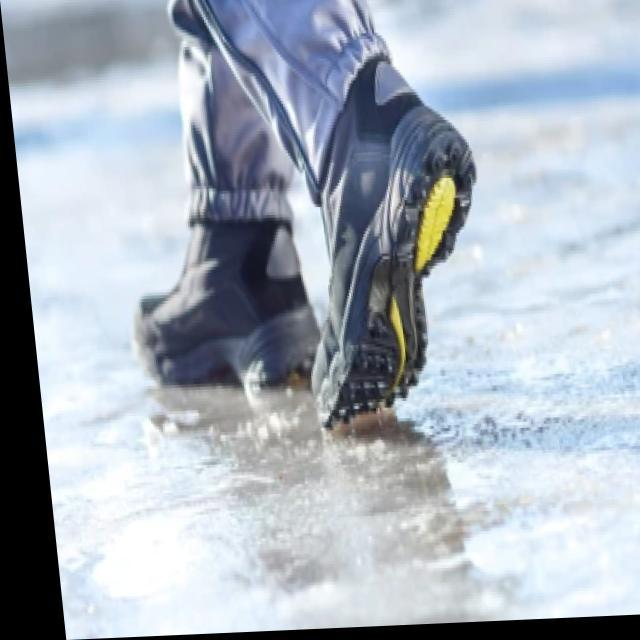boots: (103, 56, 503, 447)
